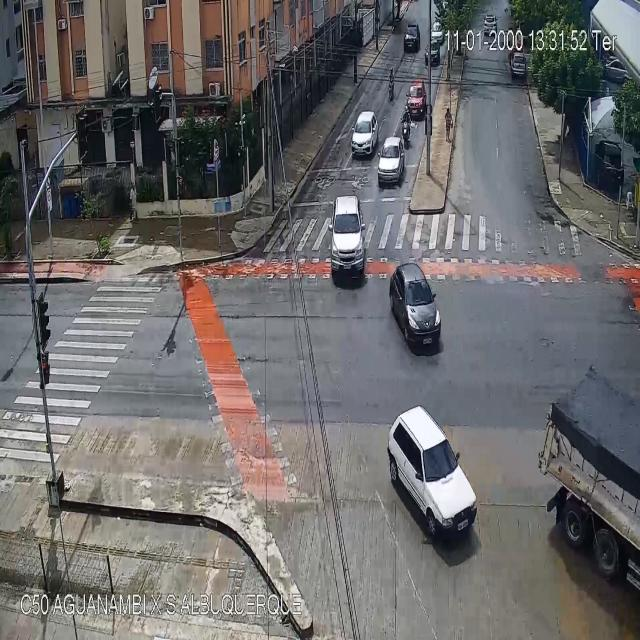Car: (387, 406, 477, 539), (389, 260, 444, 353), (328, 194, 367, 276), (378, 137, 406, 181), (352, 110, 379, 155), (407, 82, 425, 116), (403, 22, 420, 50), (425, 41, 440, 66), (512, 53, 525, 78), (431, 21, 444, 42), (484, 13, 497, 33)
Motorcycle: (401, 108, 411, 150), (388, 68, 394, 100)
Truck: (537, 364, 640, 589)
